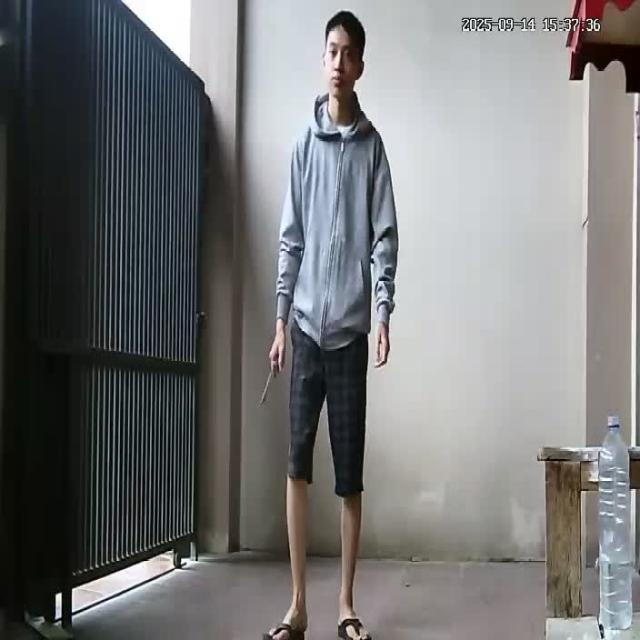senjata_tajam: (257, 366, 276, 408)
